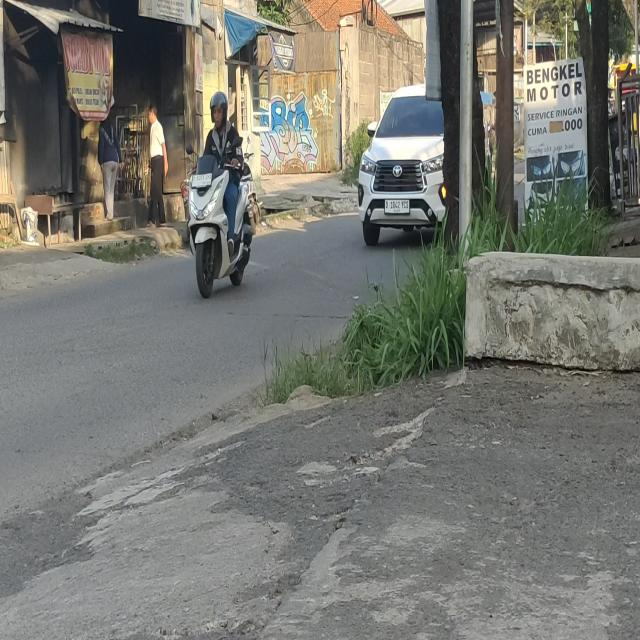helmet: (206, 91, 229, 129)
